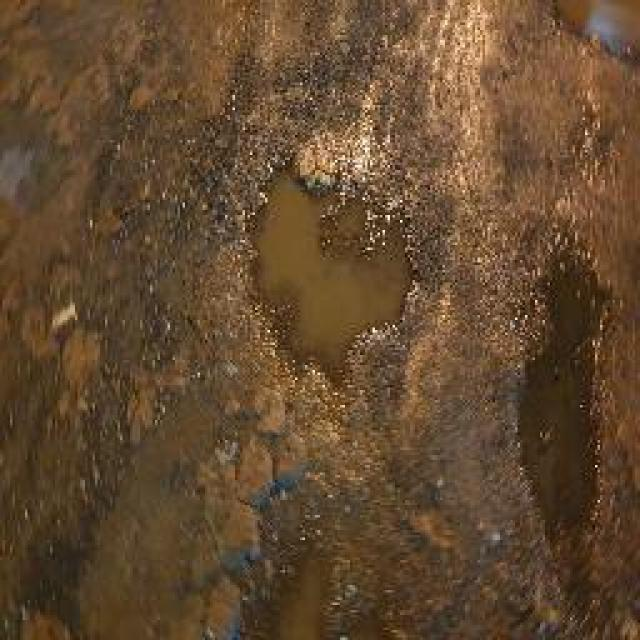puddle: (237, 165, 422, 388)
